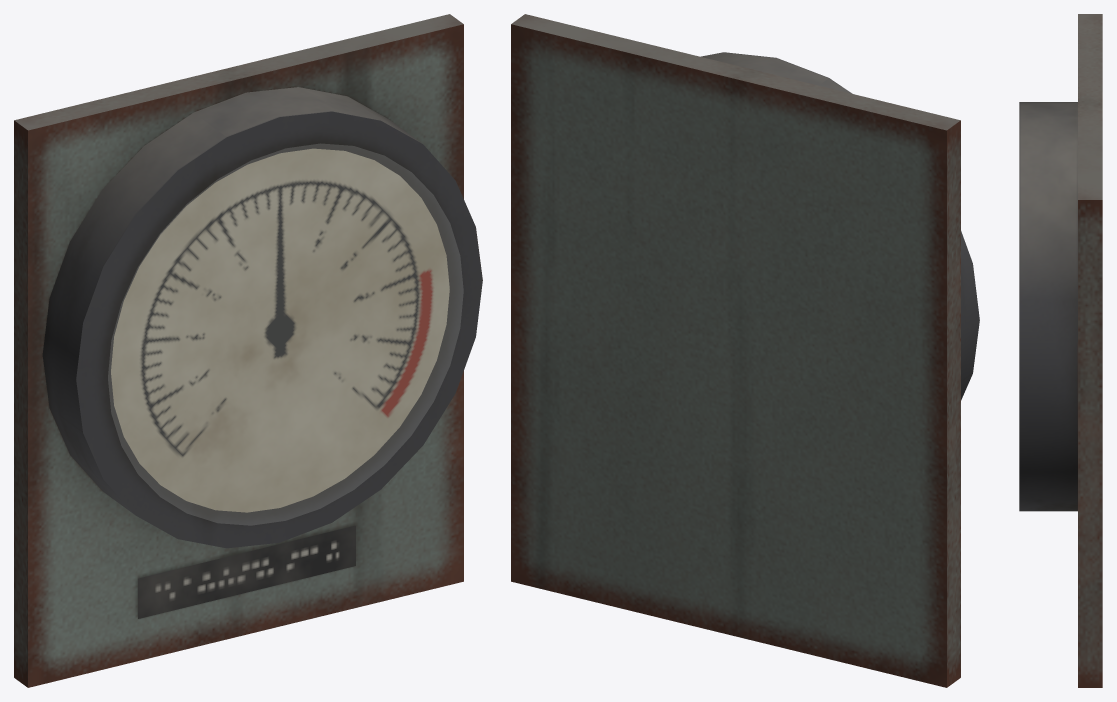
File: SM_Gauge_Round.fbx
3 renders of one model, left to right at view 1: azimuth 30°, elevation 25°; view 2: azimuth 150°, elevation 25°; view 3: azimuth 270°, elevation 25°, orthographic. The views are drawn at different scales.
Parts seen in each view (by area): view 1: SM_Gauge_Round; view 2: SM_Gauge_Round; view 3: SM_Gauge_Round.
Boxes of the visible parts, left/top/right/bottom form: SM_Gauge_Round: left=14, top=14, right=482, bottom=687; SM_Gauge_Round: left=511, top=14, right=979, bottom=687; SM_Gauge_Round: left=1019, top=14, right=1102, bottom=687.
Bounding box in the file's own units: 0.18 × 0.22 × 0.0385.
2 materials, 1 textured.
